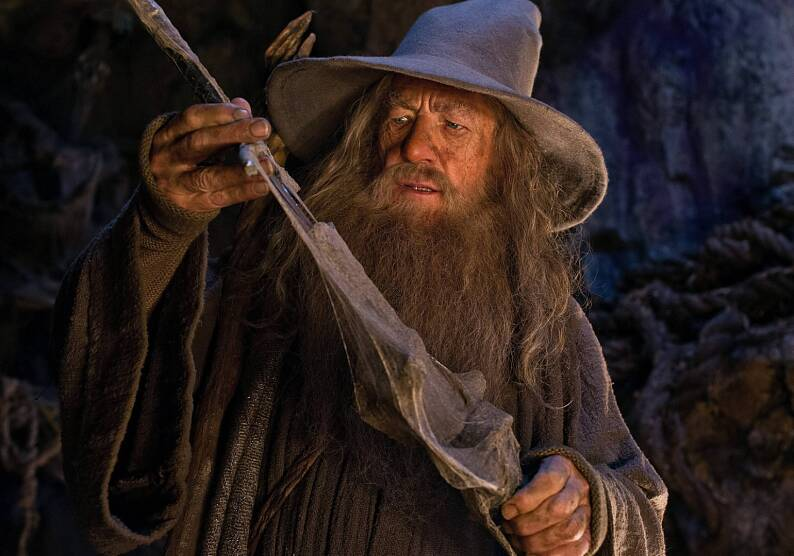gandalf grey: (23, 6, 684, 553)
